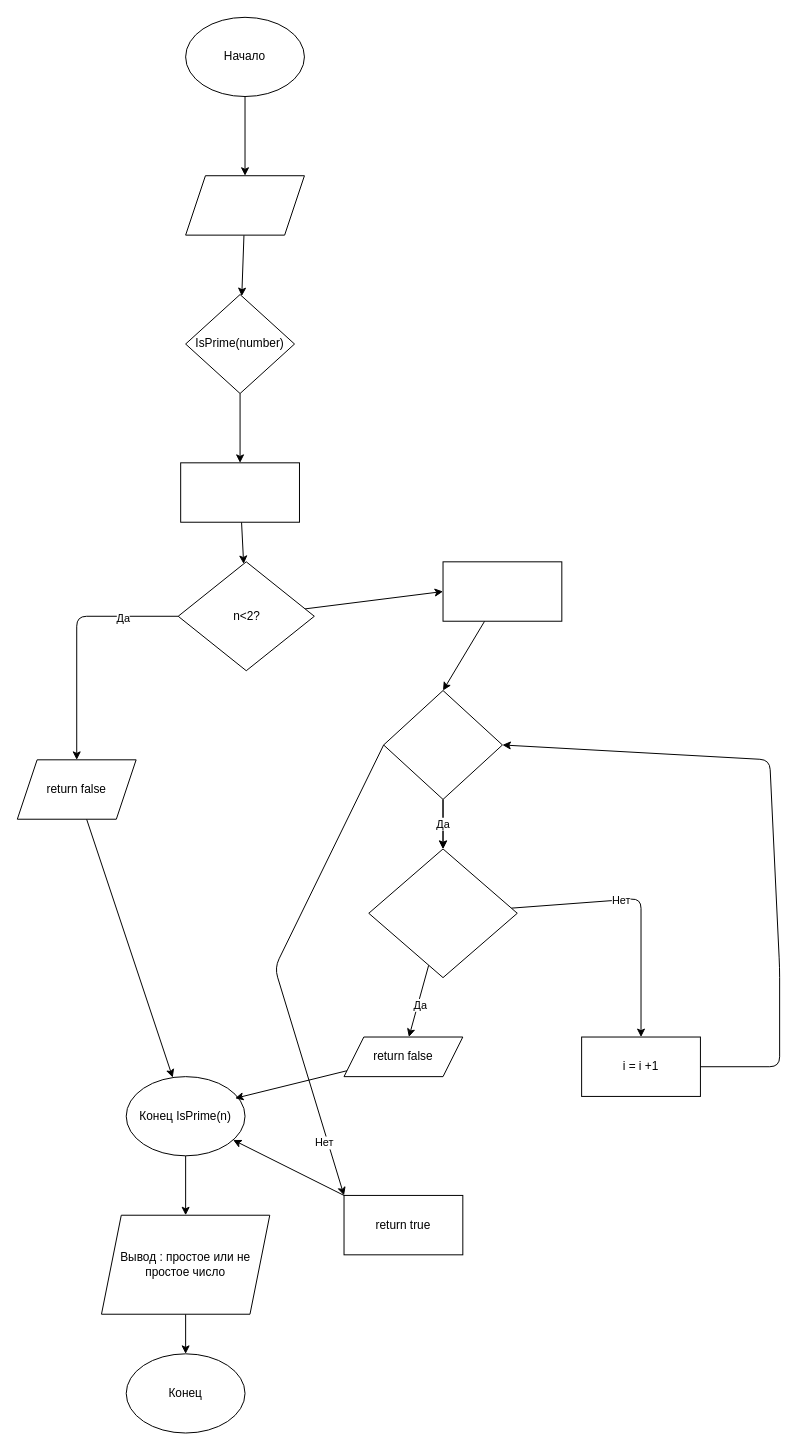
Some shapes in this 805 by 1450 pixel diagram are drawn without their labels. Each missing label, with the centre of its shape:
"i * i <= n?" goes at point 442,744.
"i = 2" goes at point 502,591.
"n % i == 0?" goes at point 442,913.
"Введите число" goes at point 244,205.
"Начало IsPrime(n)" goes at point 239,492.
